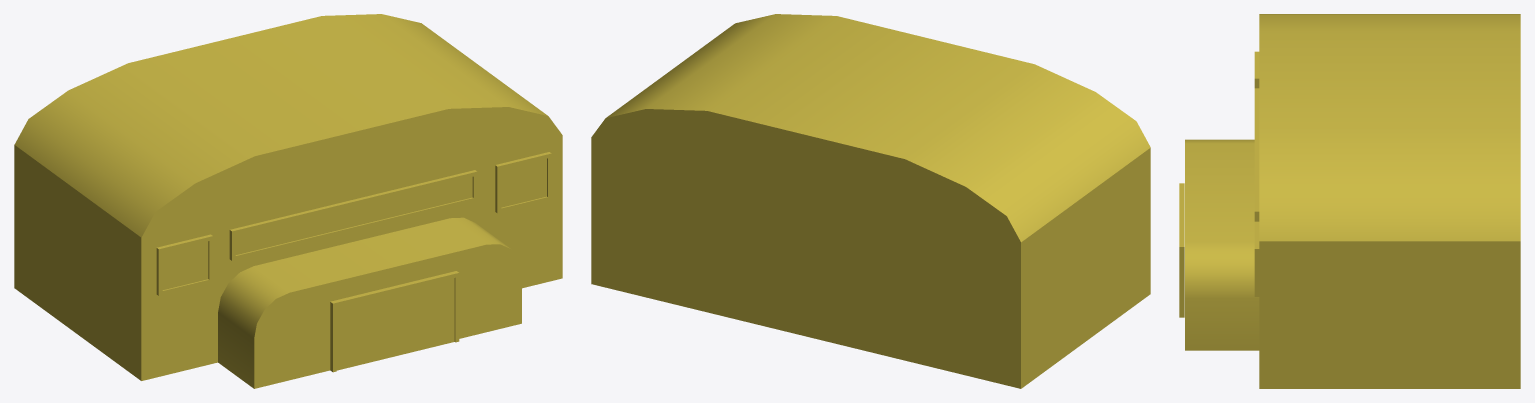
File: Mercado.fbx
The picture shows the model from 3 angles, left to right: view 1: azimuth 30°, elevation 25°; view 2: azimuth 150°, elevation 25°; view 3: azimuth 270°, elevation 25°; orthographic projection. The views are drawn at different scales.
Visible parts, largest first — view 1: Mercado.001; view 2: Mercado.001; view 3: Mercado.001.
Boxes of the visible parts, x1,y1,x2,y2 form: Mercado.001: (14,14,562,388); Mercado.001: (591,14,1150,388); Mercado.001: (1179,14,1520,388).
Size of the model in its own units: 1464 by 656 by 999.
